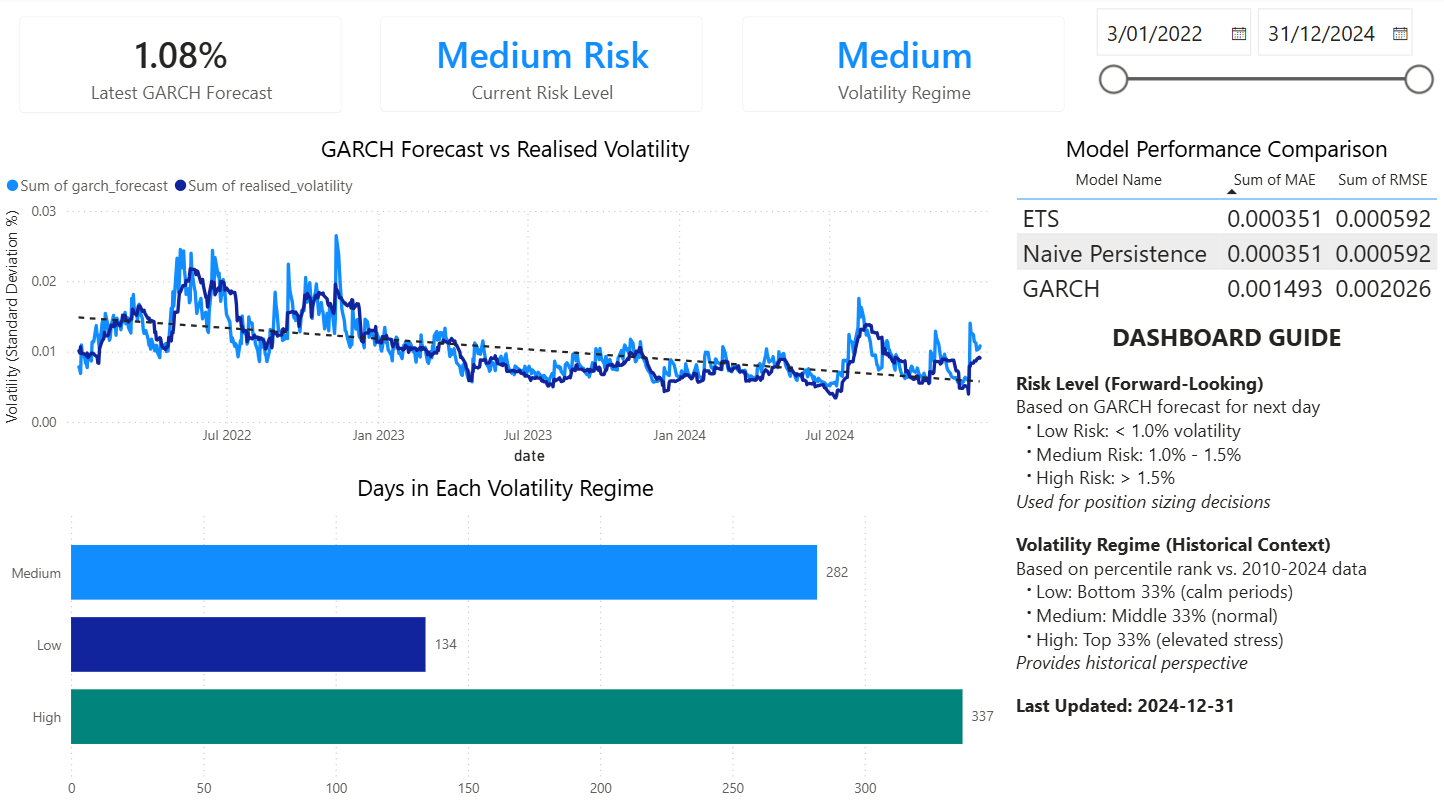

The page's visual inventory and layout, read from the dashboard file:
{"tool":"powerbi","page":{"name":"Dashboard","canvas":[1280,720],"ordinal":0},"visuals":[{"type":"lineChart","title":"GARCH Forecast vs Realised Volatility","fields":{"Category":["volatility_forecasts.date"],"Y":["Sum(volatility_forecasts.garch_forecast)","Sum(volatility_forecasts.realised_volatility)"]},"box":[0,119.9,896,300.3],"z":0},{"type":"cardVisual","title":"Latest GARCH Forecast","fields":{"Data":["Measure Table.Latest Forecast"]},"box":[0,0,320,120],"z":1000},{"type":"cardVisual","title":"Current Risk Level","fields":{"Data":["Measure Table.Latest Risk Level"]},"box":[320.5,0,320.5,119.9],"z":2000},{"type":"cardVisual","title":"Volatility Regime","fields":{"Data":["Measure Table.Current Regime"]},"box":[641,0,320.5,119.9],"z":3000},{"type":"tableEx","title":"Model Performance Comparison","fields":{"Values":["model_performance.model_name","Sum(model_performance.mae)","Sum(model_performance.rmse)"]},"box":[896,119.9,384,161.3],"z":4000},{"type":"clusteredBarChart","title":"Days in Each Volatility Regime","fields":{"Category":["volatility_regimes.regime"],"Y":["CountNonNull(volatility_regimes.date)"]},"box":[0,420.3,896,299.3],"z":5000},{"type":"slicer","fields":{"Values":["volatility_forecasts.date"]},"box":[959.5,0,320.5,119.9],"z":6000},{"type":"textbox","box":[896,281.2,384,438.4],"z":7000}]}

Visuals, with their boxes in screenshot pixels (x1, y1, x2, y2), scaled from the page's 1280x720 canvas onto the 1444x807 screenshot:
"GARCH Forecast vs Realised Volatility" lineChart: {"x1": 0, "y1": 134, "x2": 1011, "y2": 471}
"Latest GARCH Forecast" cardVisual: {"x1": 0, "y1": 0, "x2": 361, "y2": 134}
"Current Risk Level" cardVisual: {"x1": 362, "y1": 0, "x2": 723, "y2": 134}
"Volatility Regime" cardVisual: {"x1": 723, "y1": 0, "x2": 1085, "y2": 134}
"Model Performance Comparison" tableEx: {"x1": 1011, "y1": 134, "x2": 1443, "y2": 315}
"Days in Each Volatility Regime" clusteredBarChart: {"x1": 0, "y1": 471, "x2": 1011, "y2": 806}
slicer - volatility_forecasts.date: {"x1": 1082, "y1": 0, "x2": 1443, "y2": 134}
textbox: {"x1": 1011, "y1": 315, "x2": 1443, "y2": 806}
